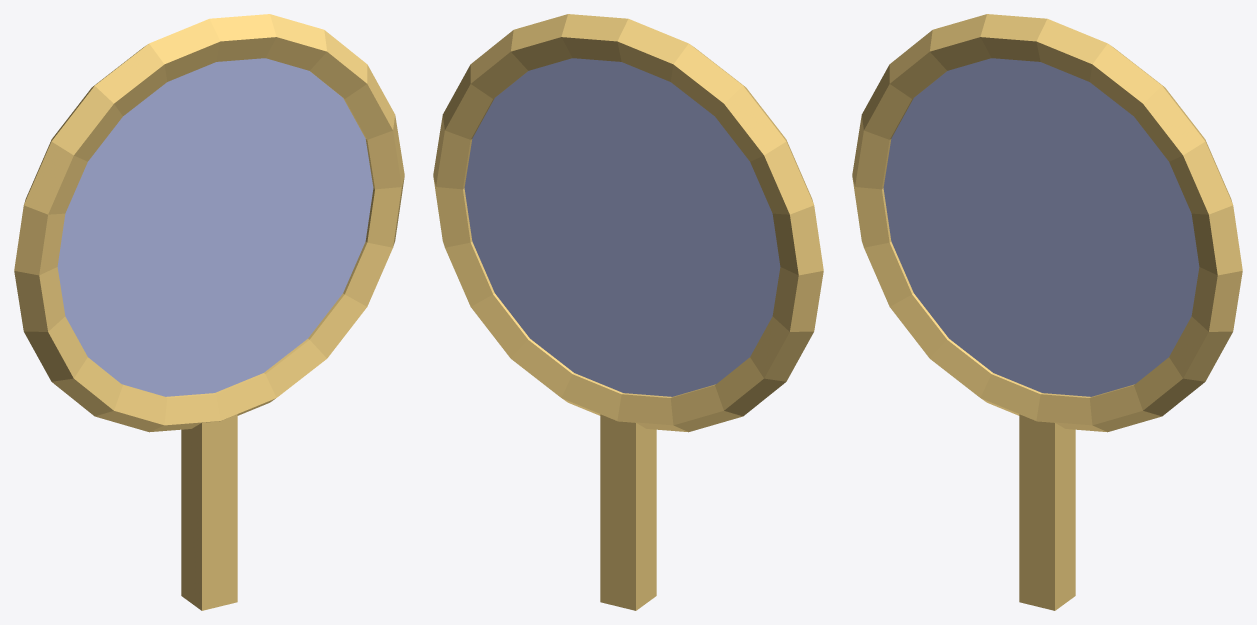
The model's file is mirror.fbx.
3 views of the same model, side by side, from view 1: azimuth 30°, elevation 25°; view 2: azimuth 150°, elevation 25°; view 3: azimuth 330°, elevation 25° (orthographic).
Parts seen in each view (by area): view 1: mirror.Main, mirror.Gold; view 2: mirror.Main, mirror.Gold; view 3: mirror.Main, mirror.Gold.
Boxes of the visible parts, bbox=[...] form: mirror.Main: bbox=[57, 58, 373, 396]; mirror.Gold: bbox=[14, 14, 404, 610]; mirror.Main: bbox=[464, 58, 780, 396]; mirror.Gold: bbox=[433, 14, 823, 610]; mirror.Main: bbox=[883, 58, 1199, 396]; mirror.Gold: bbox=[852, 14, 1242, 610].
Bounding box in the file's own units: 1.74 × 2.47 × 0.1712.
